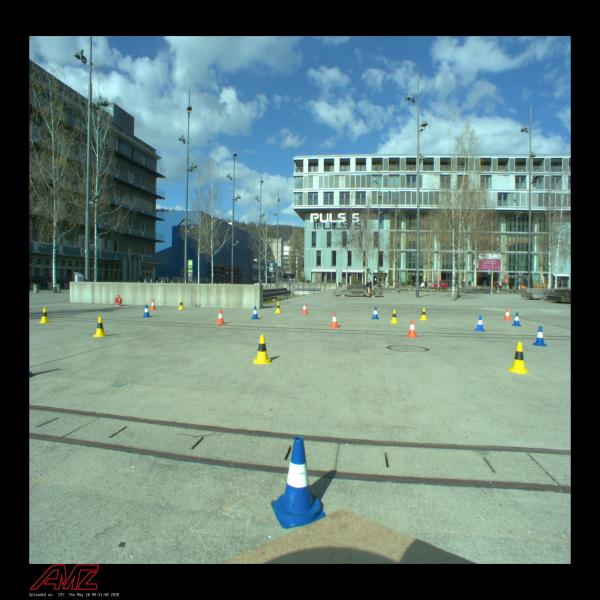blue_cone: (271, 436, 326, 529), (532, 326, 547, 347), (474, 316, 485, 332), (512, 312, 522, 326), (143, 304, 151, 318), (252, 306, 260, 319), (371, 307, 379, 319)
orange_cone: (406, 320, 418, 338), (330, 312, 340, 328), (216, 310, 225, 324), (503, 308, 511, 320), (301, 303, 308, 314), (150, 299, 156, 310)
yellow_cone: (506, 342, 530, 374), (254, 335, 271, 364), (92, 316, 108, 337), (39, 308, 50, 323), (390, 309, 399, 323), (420, 308, 427, 320), (178, 299, 184, 310), (275, 302, 281, 313)
